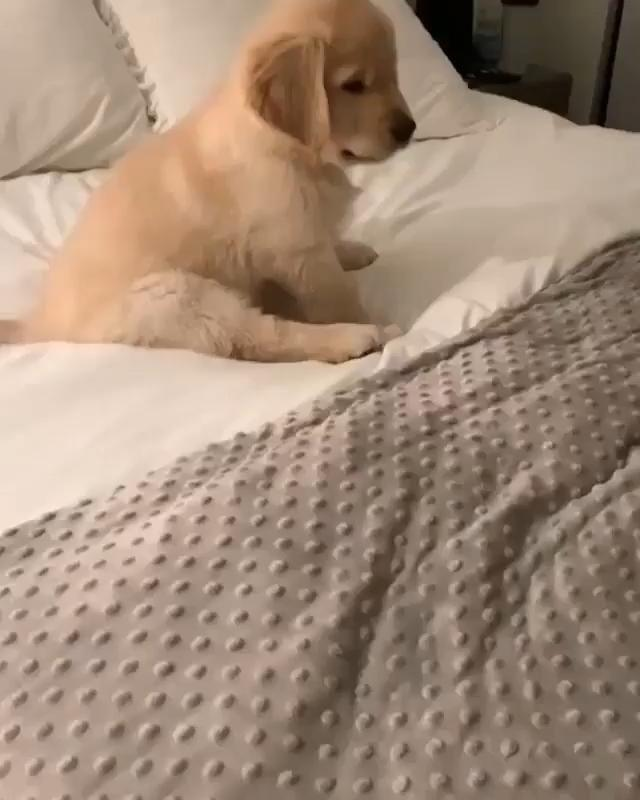puppy-dog: (1, 1, 419, 363)
